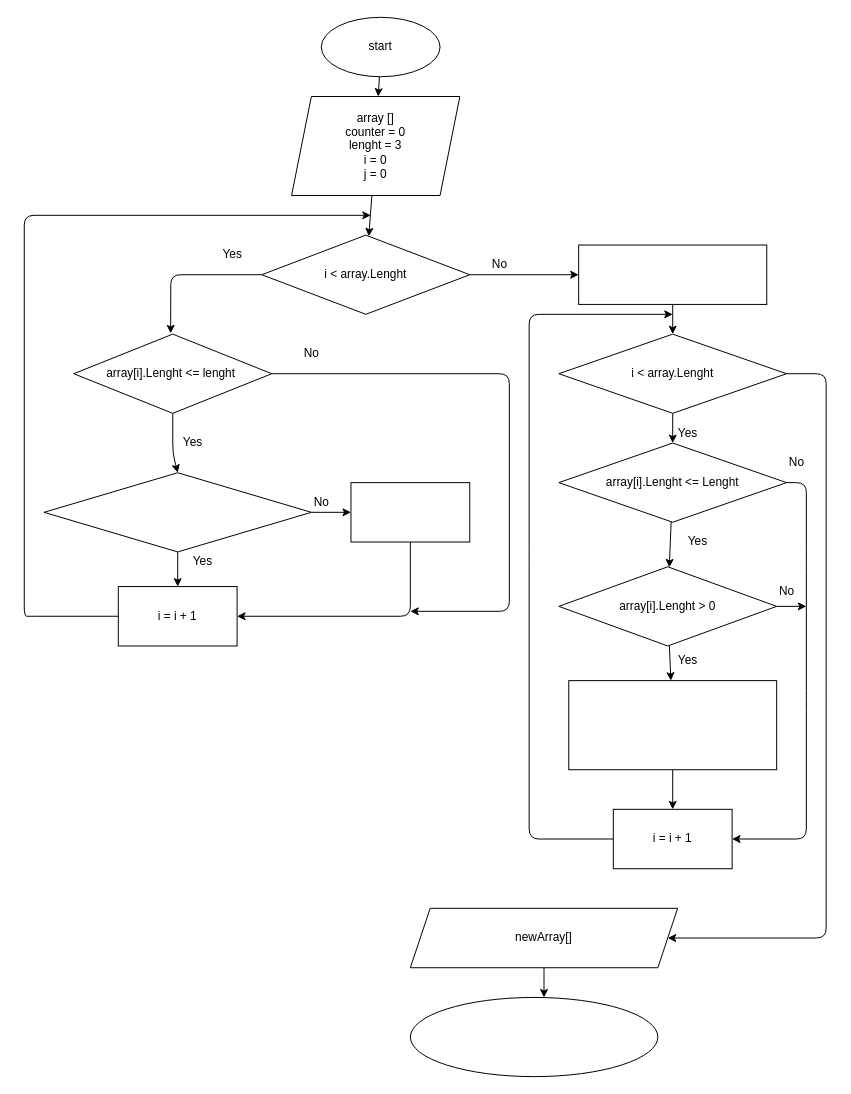
Some shapes in this 851 by 1094 pixel diagram are drawn without their labels. The shapes that lost their labels are listed below. From the top down, each one's box as (x1, y1, x2, y2) in pixels, then its label:
(578, 244, 767, 304): newArray{counter} i = 0
(43, 472, 311, 552): array[i]. Lenght > 0
(350, 482, 470, 542): counter = counter + 1
(568, 680, 777, 770): newArray[j] = array{i} j = j + 1
(409, 996, 658, 1077): Finish
